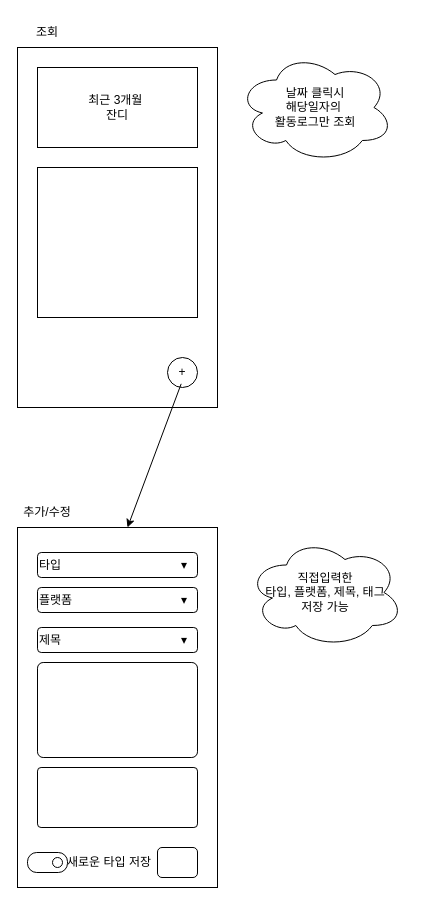
Some shapes in this 421 by 905 pixel diagram are drawn without their labels. The centre of each missing label's shape, as x and y in pixels:
내용: (117,710)
저장: (177,862)
최근 3개월 활동 로그 (무한 스크롤): (117,242)
태그: (117,797)
